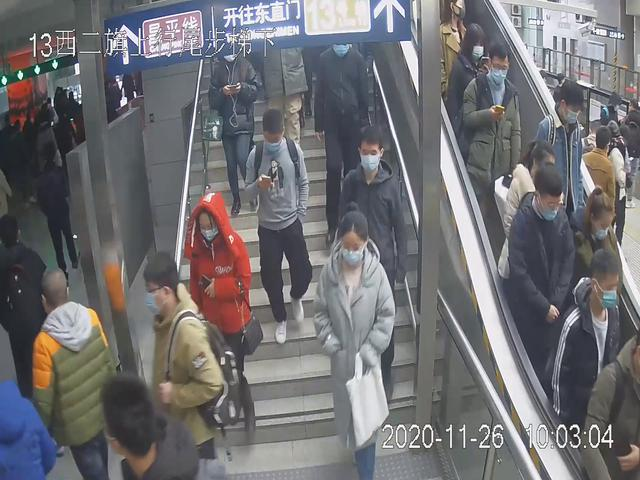person: (136, 249, 254, 480), (182, 188, 265, 454), (316, 209, 394, 480), (501, 164, 577, 395), (242, 107, 315, 344), (548, 242, 626, 441), (336, 129, 411, 324), (315, 31, 373, 257), (462, 40, 521, 255), (207, 42, 262, 220), (529, 74, 588, 239)
